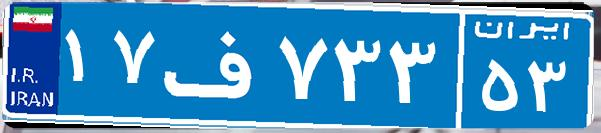1: (57, 26, 110, 107)
3: (385, 28, 445, 110), (330, 28, 385, 110), (525, 38, 570, 115)
5: (475, 38, 525, 113)
7: (273, 28, 330, 110), (110, 28, 158, 105)
ف: (158, 15, 273, 115)
